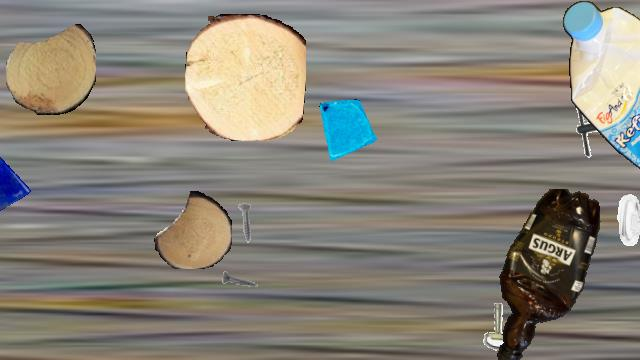glass: (316, 99, 380, 163), (0, 148, 33, 214)
metal: (565, 99, 625, 159), (473, 299, 529, 355), (221, 258, 263, 300), (225, 202, 267, 244), (614, 191, 640, 249), (627, 249, 640, 303)
plastic: (487, 189, 607, 359), (563, 1, 640, 175)
wood: (185, 14, 305, 140), (6, 23, 96, 115), (154, 191, 232, 269)
